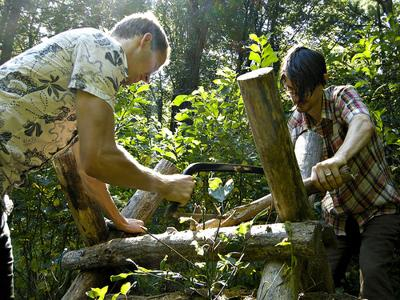person: (1, 11, 201, 300)
